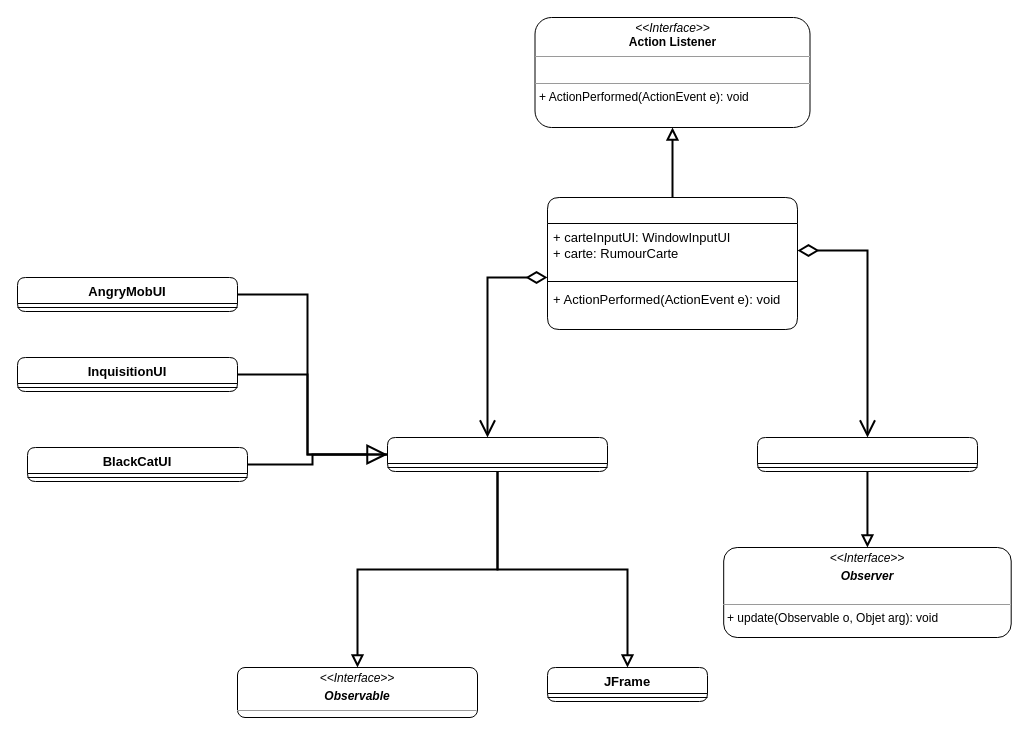
Some shapes in this 1029 by 735 pixel diagram are drawn without their labels. Here are the shapes that lost their labels. From the top down, the box of each, then its label:
(546, 196, 798, 330): CarteActionController
(386, 436, 608, 472): WindowInputUI
(756, 436, 978, 472): RumourCarte
